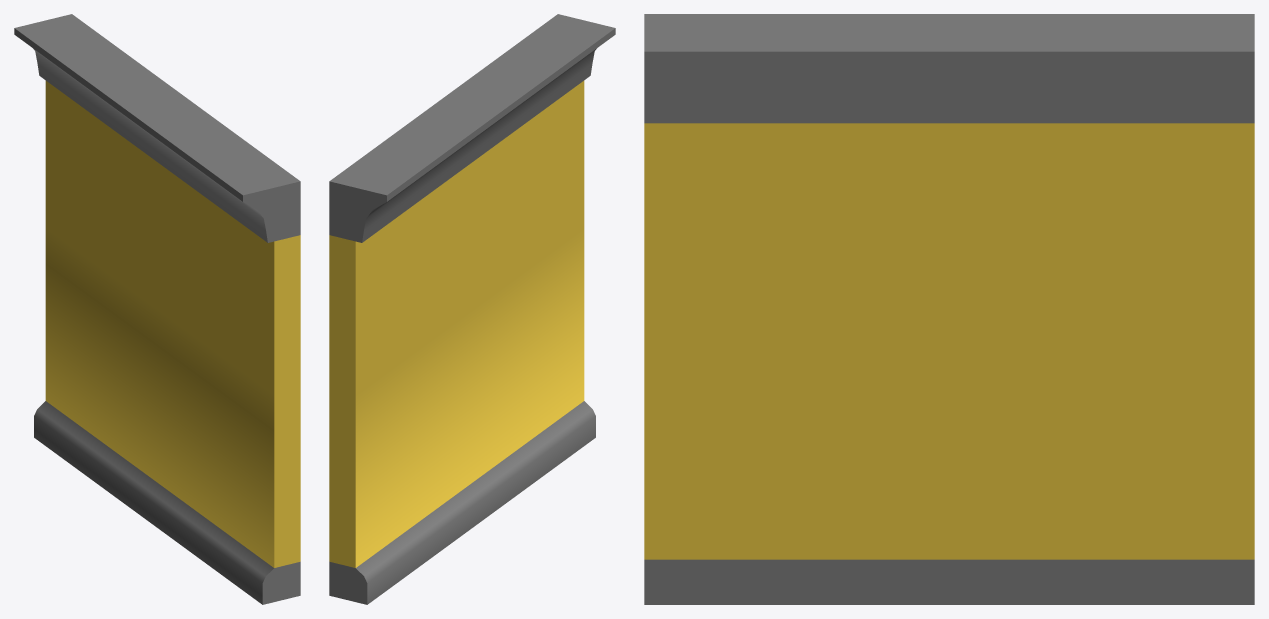
File: Wall1_Base.fbx
3 views of the same model, side by side, from view 1: azimuth 30°, elevation 25°; view 2: azimuth 150°, elevation 25°; view 3: azimuth 270°, elevation 25° (orthographic). The views are drawn at different scales.
Parts seen in each view (by area): view 1: Wall002_Base; view 2: Wall002_Base; view 3: Wall002_Base.
Boxes of the visible parts, box(x1,y1,x2,y2) form: Wall002_Base: box(14, 14, 300, 604); Wall002_Base: box(329, 14, 615, 604); Wall002_Base: box(644, 14, 1254, 604).
Bounding box in the file's own units: 17.19 × 118 × 118.
